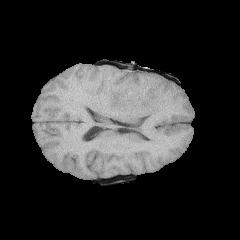glioma: (105, 70, 163, 131)
